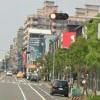traffic lights: (48, 12, 70, 21)
